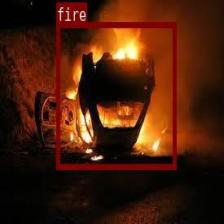fire: (56, 22, 176, 168)
